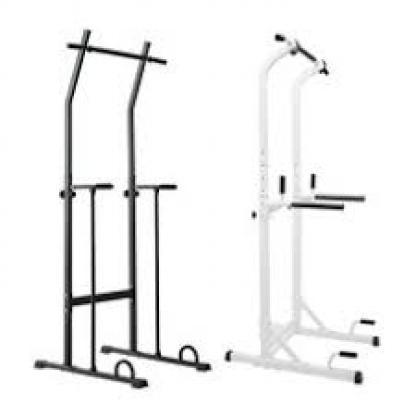chinning dipping: (34, 30, 212, 388), (224, 33, 382, 387)
